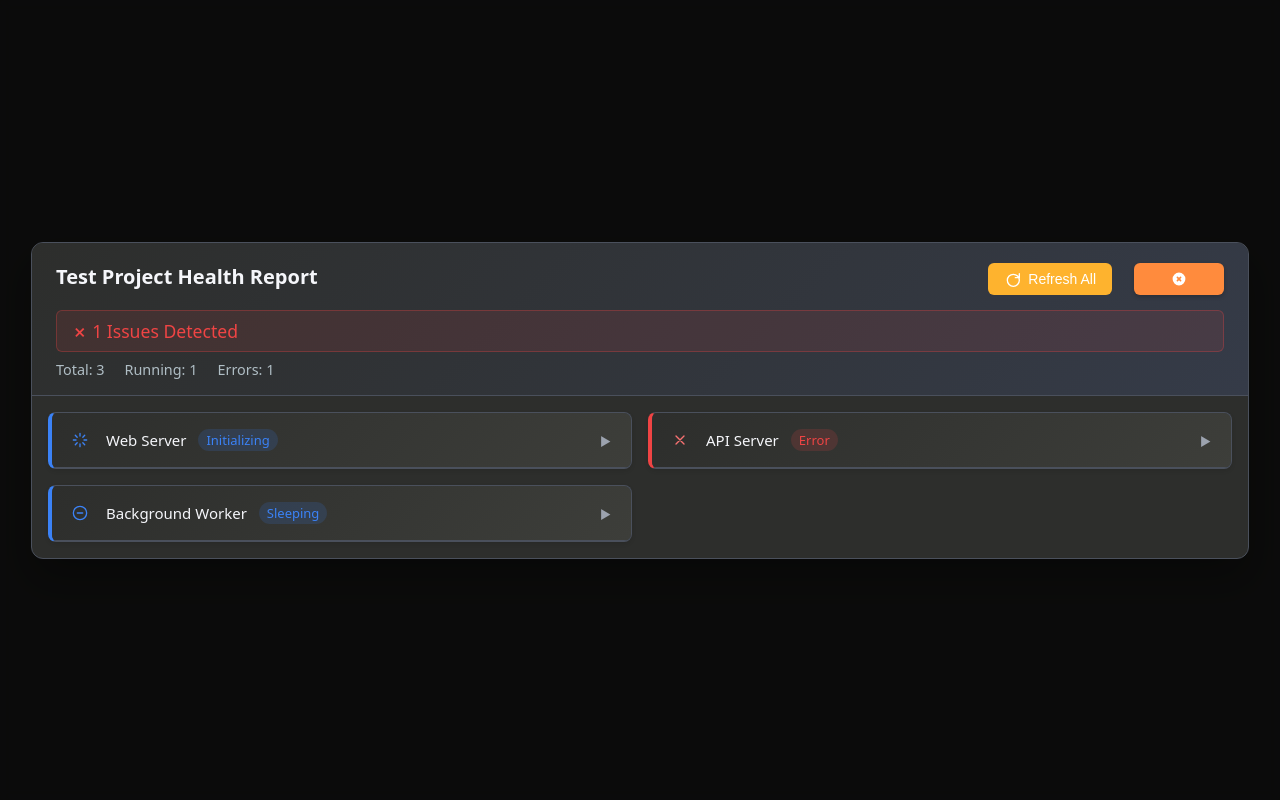
HealthReportScreen › Command Popup › should show command popup when show command button is clicked
The width and height of the screenshot is (1280, 800).
Check: the text "Web Server" is shown, box top-left (106, 430), bottom-right (186, 450)
# Expand terminal section
Click the element with test id "terminal-section-Web Server" at (342, 440), box top-left (52, 412), bottom-right (631, 468)
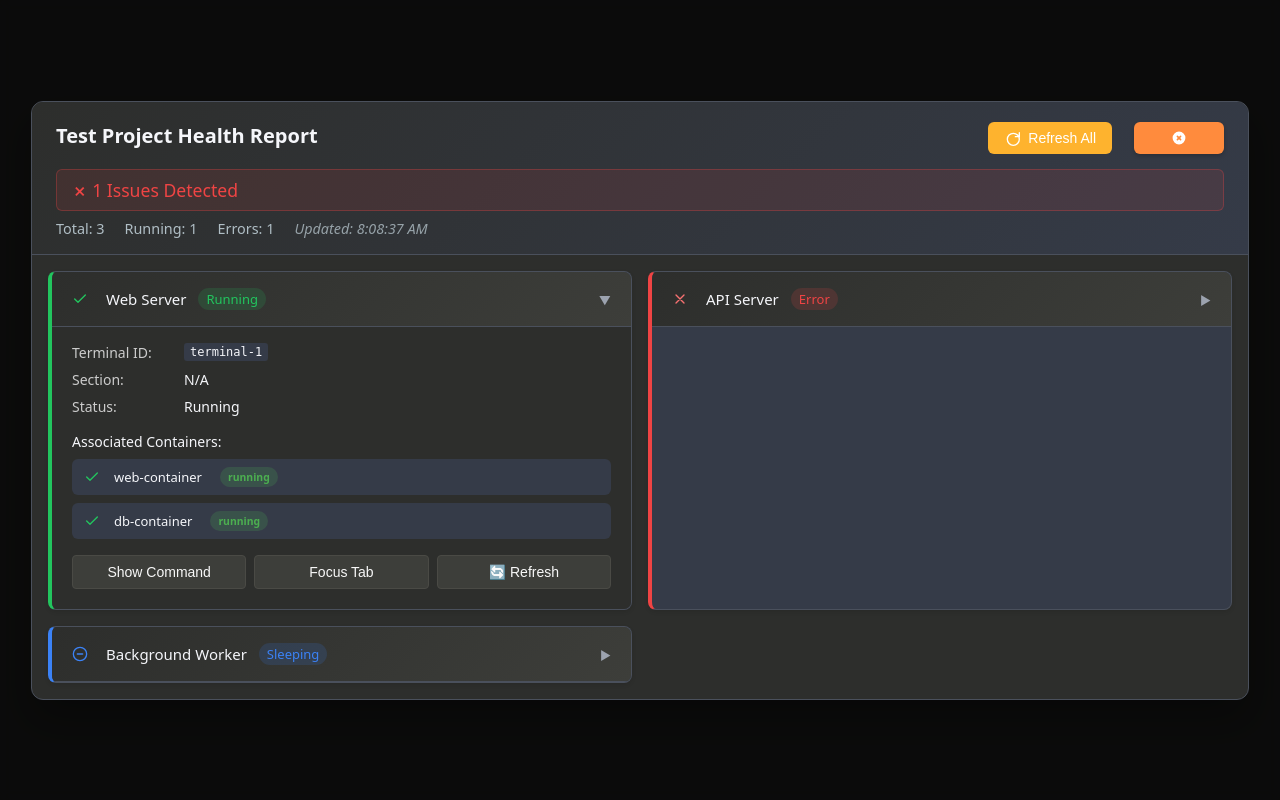
# Click show command button
Click the button with test id "show-command-button" at (159, 572), box top-left (72, 554), bottom-right (246, 588)
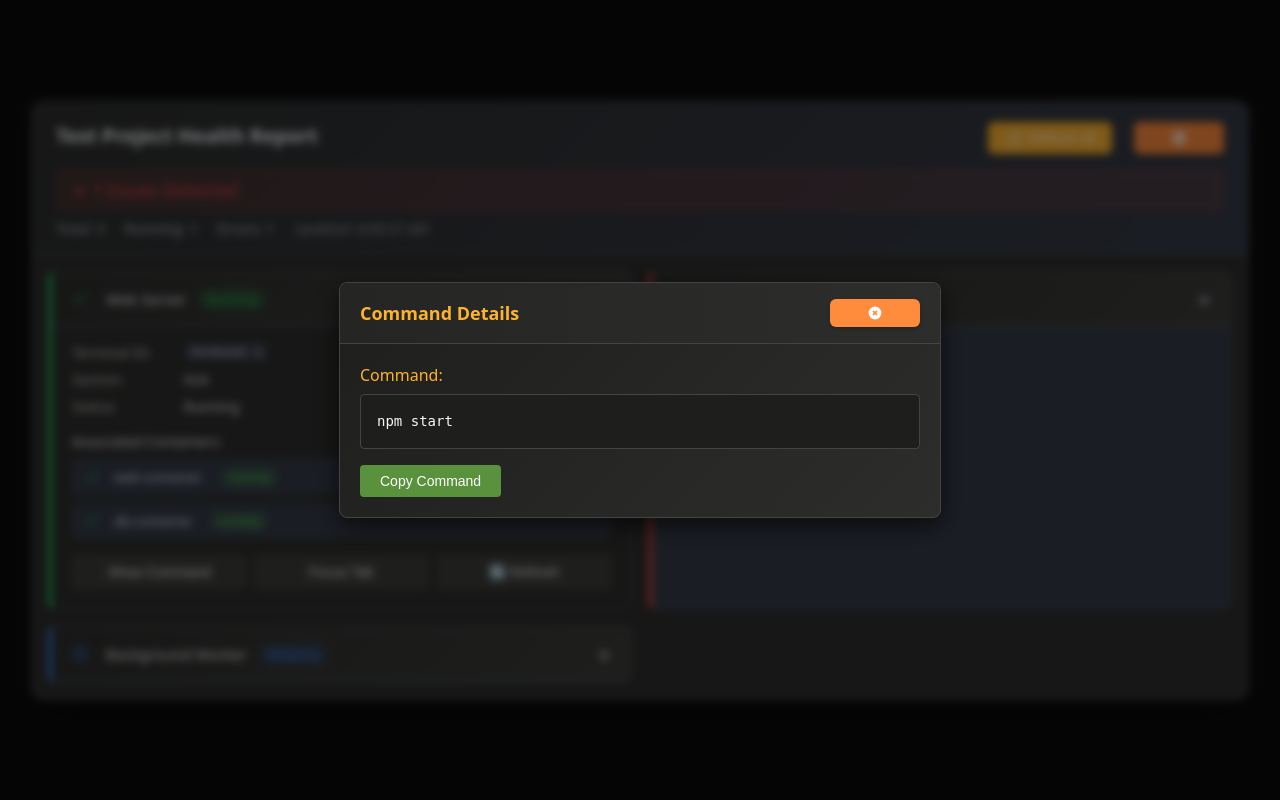
Check: the heading "Command Details" is shown, box top-left (360, 301), bottom-right (519, 325)
Check: the text "npm start" is shown, box top-left (360, 394), bottom-right (920, 449)
